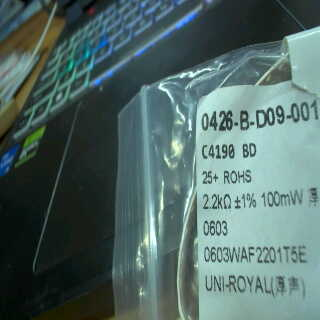2.2kR: (200, 188, 234, 218)
